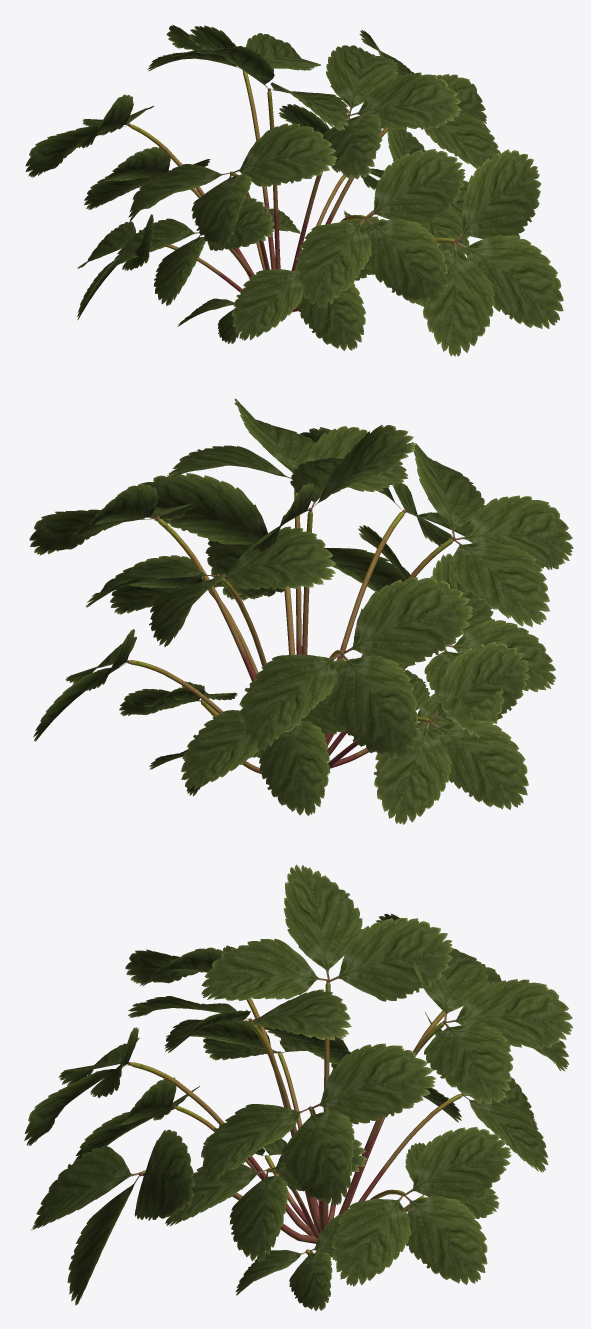
3 renders of one model, top to bottom at view 1: azimuth 30°, elevation 25°; view 2: azimuth 150°, elevation 25°; view 3: azimuth 270°, elevation 25°, orthographic. The views are drawn at different scales.
Visible parts, largest first — view 1: leaf1, branch1; view 2: leaf1, branch1; view 3: leaf1, branch1.
Boxes of the visible parts, bbox=[...] form: leaf1: bbox=[25, 24, 563, 356]; branch1: bbox=[128, 70, 457, 312]; leaf1: bbox=[29, 398, 573, 824]; branch1: bbox=[127, 489, 455, 774]; leaf1: bbox=[24, 864, 572, 1310]; branch1: bbox=[128, 979, 463, 1254].
Bounding box in the file's own units: 0.4815 × 0.4861 × 0.3271.
